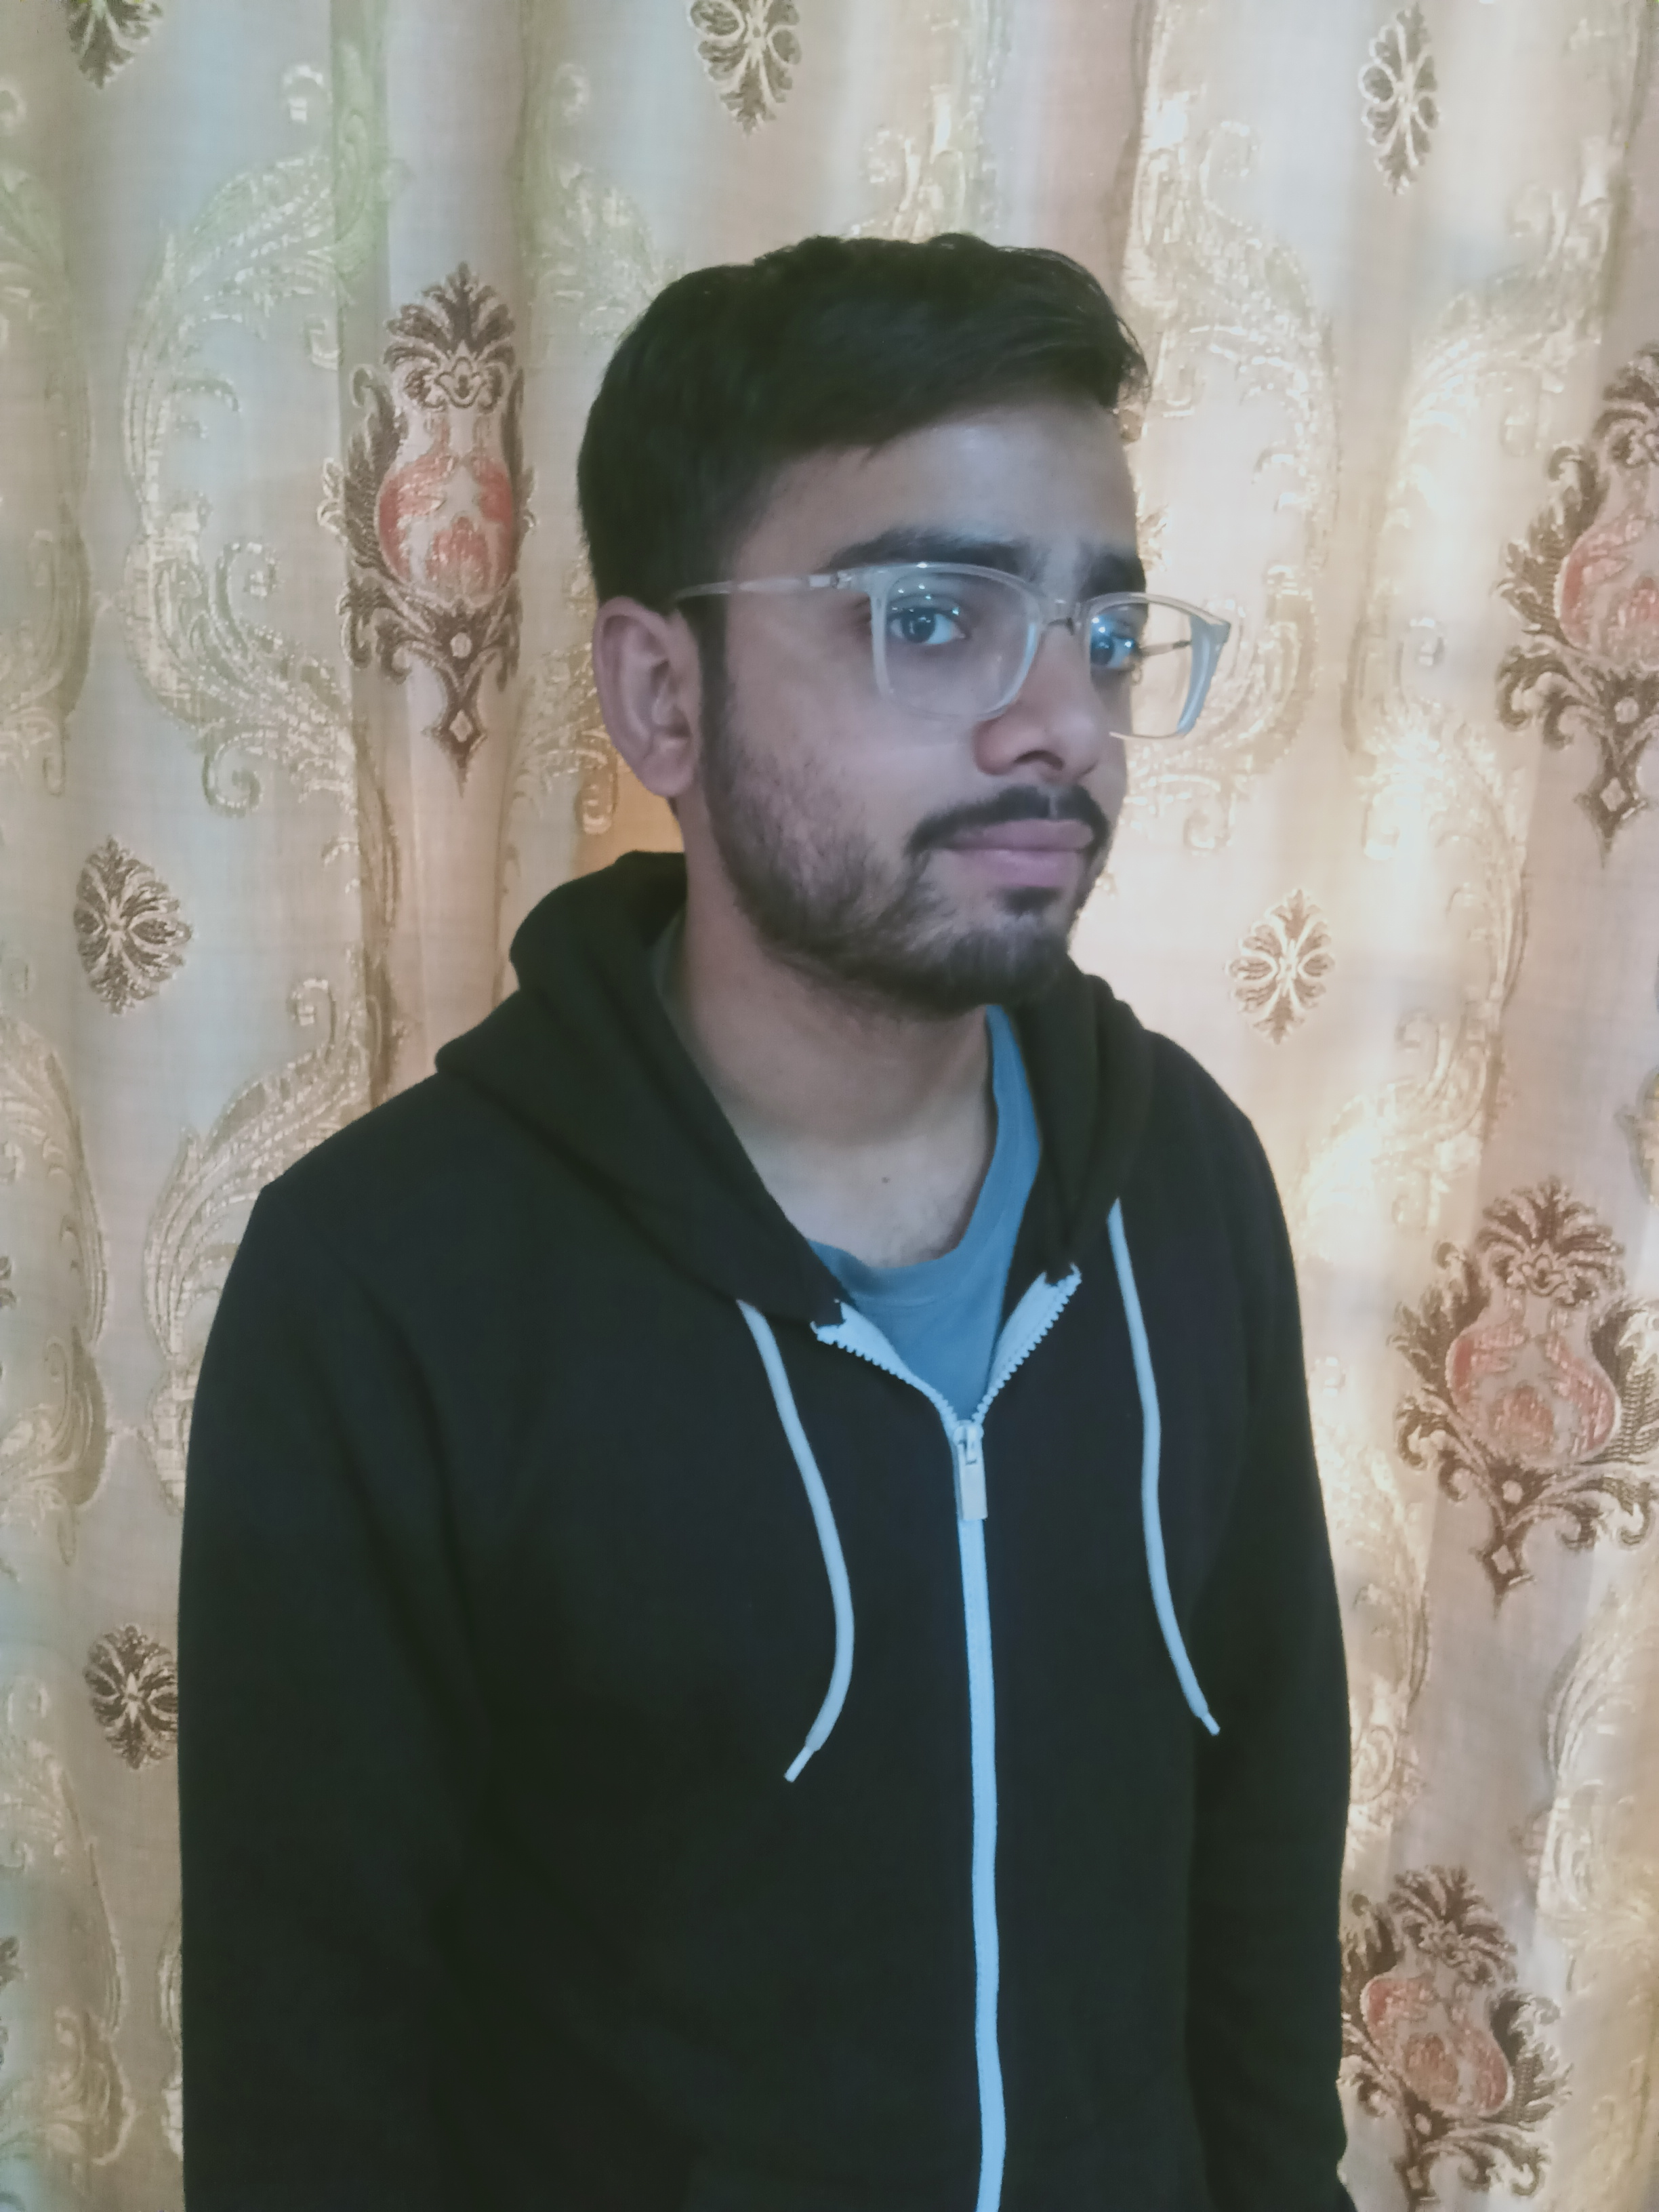NoMask: (762, 499, 1145, 984)
